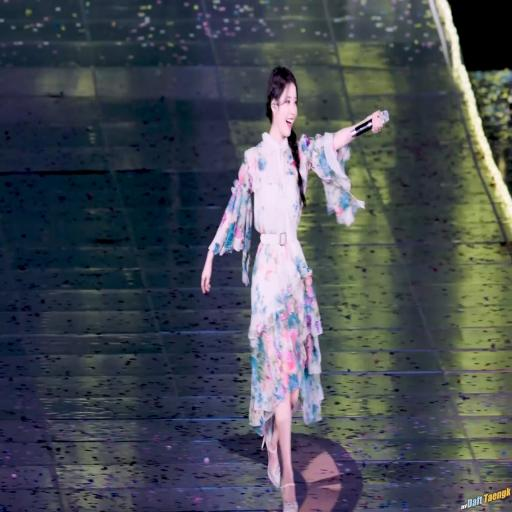IU: (266, 65, 298, 140)
